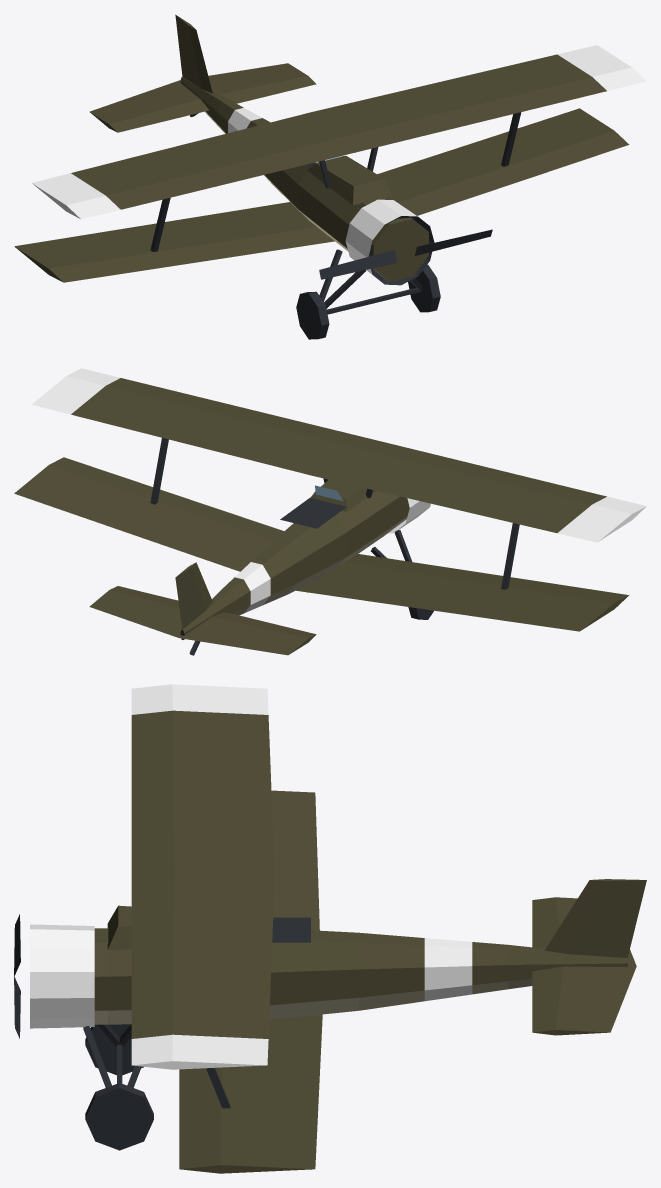
Rendered from sopwith_camel_lod.glb.
The picture shows the model from 3 angles, top to bottom: view 1: azimuth 30°, elevation 25°; view 2: azimuth 150°, elevation 25°; view 3: azimuth 270°, elevation 25°; orthographic projection. The views are drawn at different scales.
Visible parts, largest first — view 1: body, prop; view 2: body; view 3: body, prop.
Boxes of the visible parts, <box> form: body: <box>14,14,646,339</box>; prop: <box>319,229,492,279</box>; body: <box>14,368,646,655</box>; body: <box>30,684,646,1173</box>; prop: <box>14,914,20,1038</box>.
Bounding box in the file's own units: 8.53 × 2.52 × 6.06.
